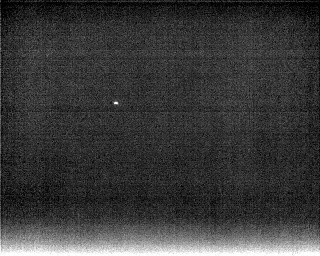BIRD: (112, 98, 120, 107)
